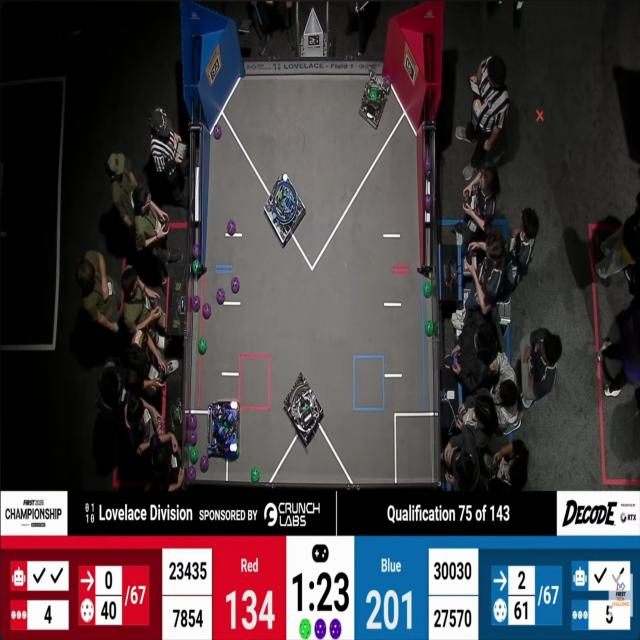artifact_green: (300, 619, 311, 639), (171, 405, 182, 423), (425, 320, 434, 337), (198, 338, 207, 355), (187, 414, 197, 429), (423, 281, 432, 297), (190, 447, 198, 464), (192, 260, 201, 275), (218, 426, 227, 440), (251, 468, 260, 482), (370, 89, 379, 100), (223, 419, 229, 430), (230, 401, 238, 409), (434, 323, 438, 334)
artifact_purple: (330, 619, 341, 639), (315, 619, 326, 639), (200, 455, 209, 473), (227, 219, 236, 236), (231, 277, 240, 294), (188, 414, 197, 430), (192, 244, 201, 260), (188, 430, 197, 446), (192, 296, 200, 312), (217, 288, 225, 304), (187, 467, 196, 481), (203, 304, 211, 319), (452, 351, 459, 368), (425, 195, 432, 212), (214, 125, 221, 140), (426, 155, 431, 173), (383, 76, 391, 85)
